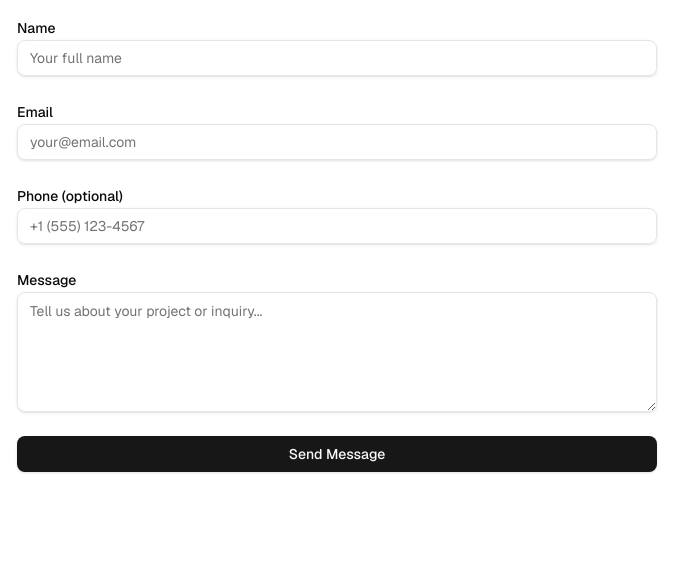
Test: ContactForm › Error Handling › displays network error message on fetch failure
Fill and submit form
Type "John Doe" into the field labelled "Name" at (337, 58), box left=17, top=40, right=657, bottom=76
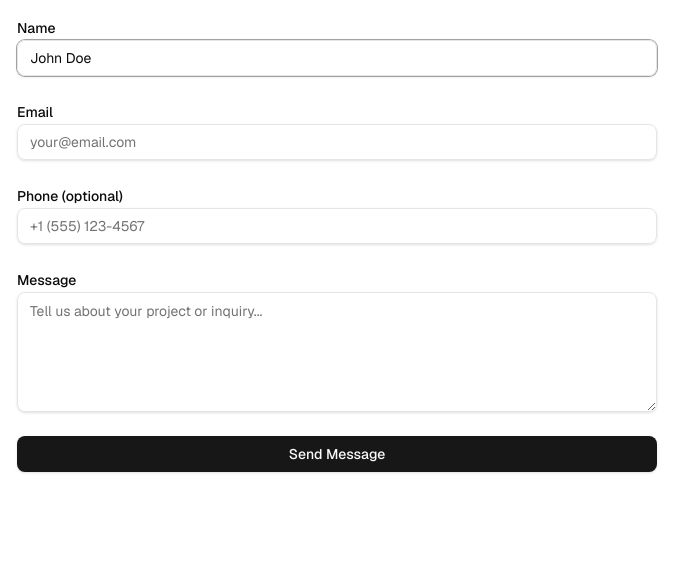
Type "john@example.com" into the field labelled "Email" at (337, 142), box left=17, top=124, right=657, bottom=160
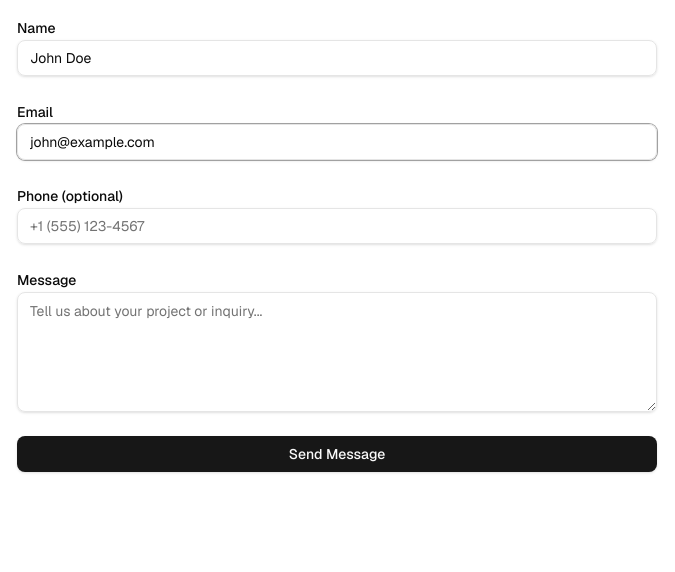
Type "Test message with enough characters" into the text box labelled "Message" at (337, 352), box left=17, top=292, right=657, bottom=412
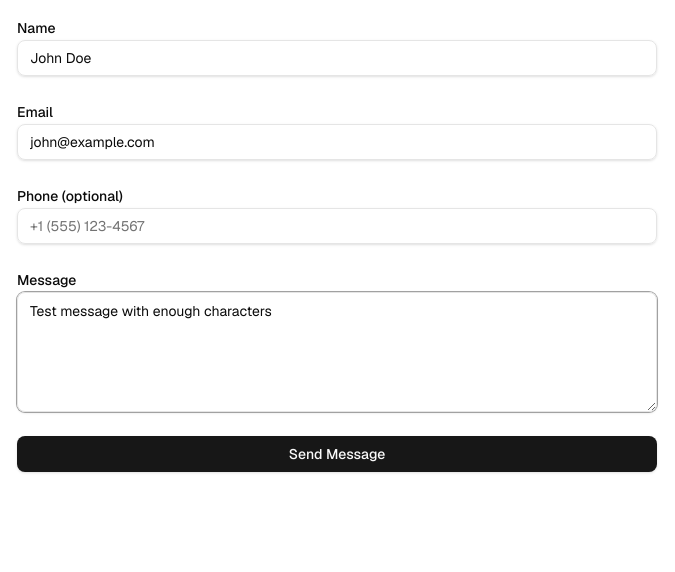
Click the button "Send Message" at (337, 454), box left=17, top=436, right=657, bottom=472
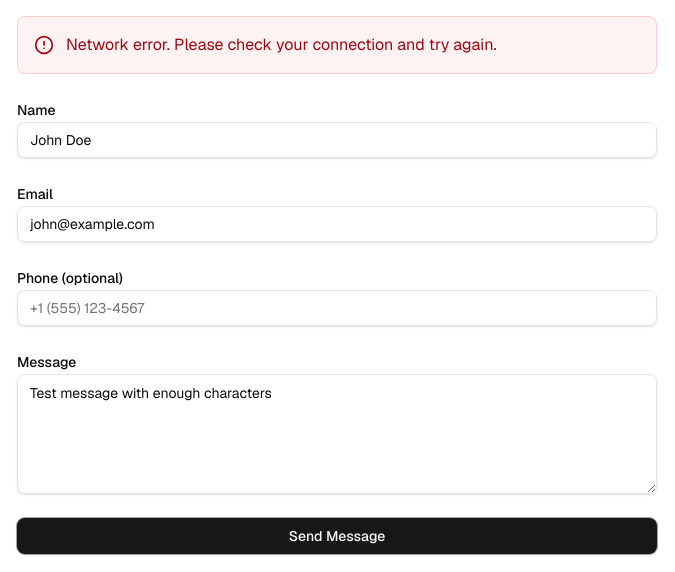
Result: the text "Network error. Please check your connection and try again." is shown at left=66, top=33, right=497, bottom=57
